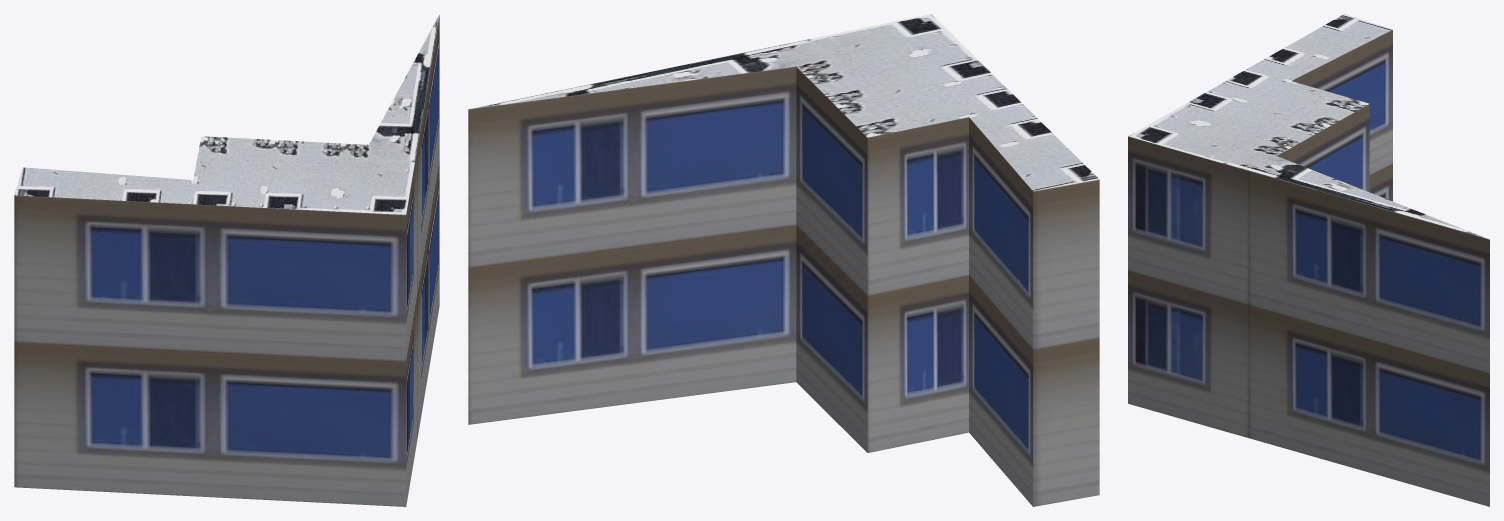
The model's file is ResTex__2003.fbx.
3 views of the same model, side by side, from view 1: azimuth 30°, elevation 25°; view 2: azimuth 150°, elevation 25°; view 3: azimuth 270°, elevation 25° (orthographic). The views are drawn at different scales.
Visible parts, largest first — view 1: CityEngineMaterial_23_m, CityEngineMaterial_4_m; view 2: CityEngineMaterial_23_m, CityEngineMaterial_4_m; view 3: CityEngineMaterial_23_m, CityEngineMaterial_4_m.
Part boxes in pixels (left/top/right/bottom): CityEngineMaterial_23_m: left=14, top=15, right=439, bottom=506; CityEngineMaterial_4_m: left=14, top=14, right=439, bottom=214; CityEngineMaterial_23_m: left=468, top=66, right=1099, bottom=506; CityEngineMaterial_4_m: left=469, top=14, right=1099, bottom=191; CityEngineMaterial_23_m: left=1128, top=30, right=1489, bottom=506; CityEngineMaterial_4_m: left=1128, top=14, right=1487, bottom=238.
Size of the model in its own units: 10.86 by 6 by 7.36.
Materials: 2 (2 with a texture image).
